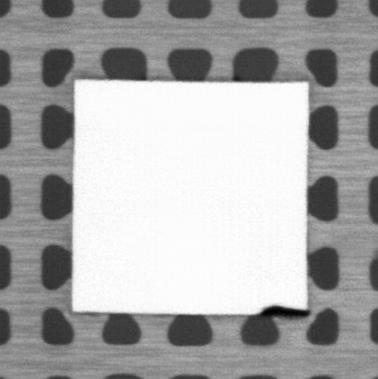DIE_BROKEN: (258, 304, 311, 319)
